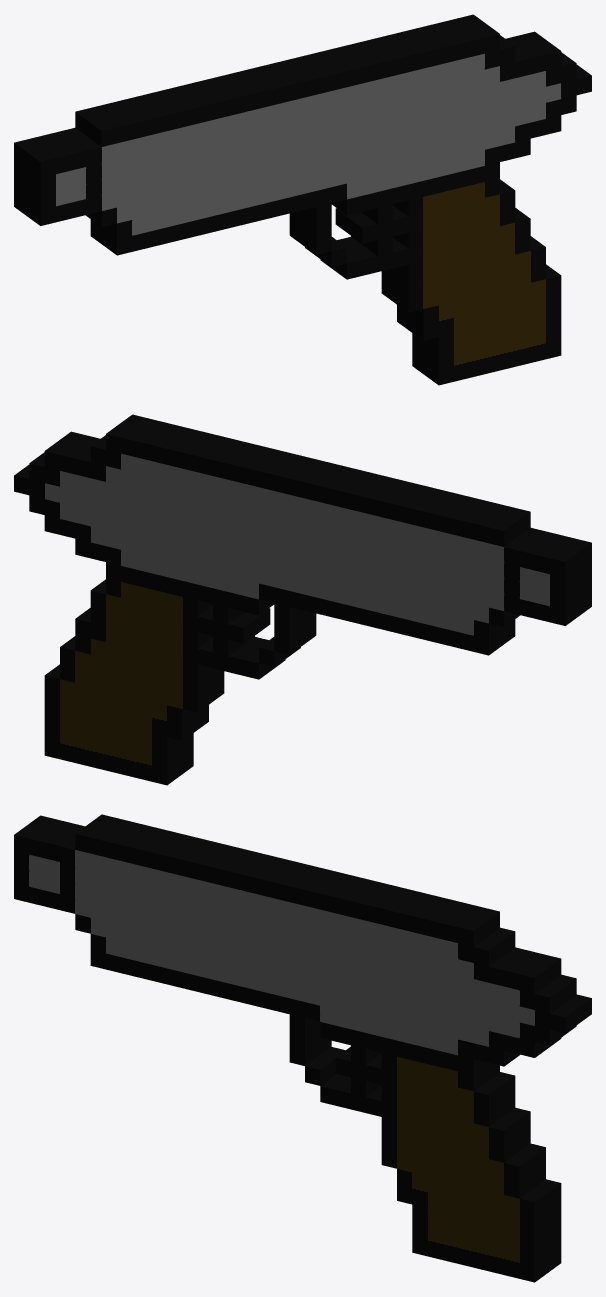
File: Matrix.fbx
3 views of the same model, one above another, from view 1: azimuth 30°, elevation 25°; view 2: azimuth 150°, elevation 25°; view 3: azimuth 330°, elevation 25° (orthographic).
Visible parts, largest first — view 1: Matrix; view 2: Matrix; view 3: Matrix.
Boxes of the visible parts, left/top/right/bottom form: Matrix: left=14, top=14, right=591, bottom=385; Matrix: left=14, top=414, right=591, bottom=785; Matrix: left=14, top=814, right=591, bottom=1282.
Bounding box in the file's own units: 36 × 21 × 3.
1 material, 1 textured.
